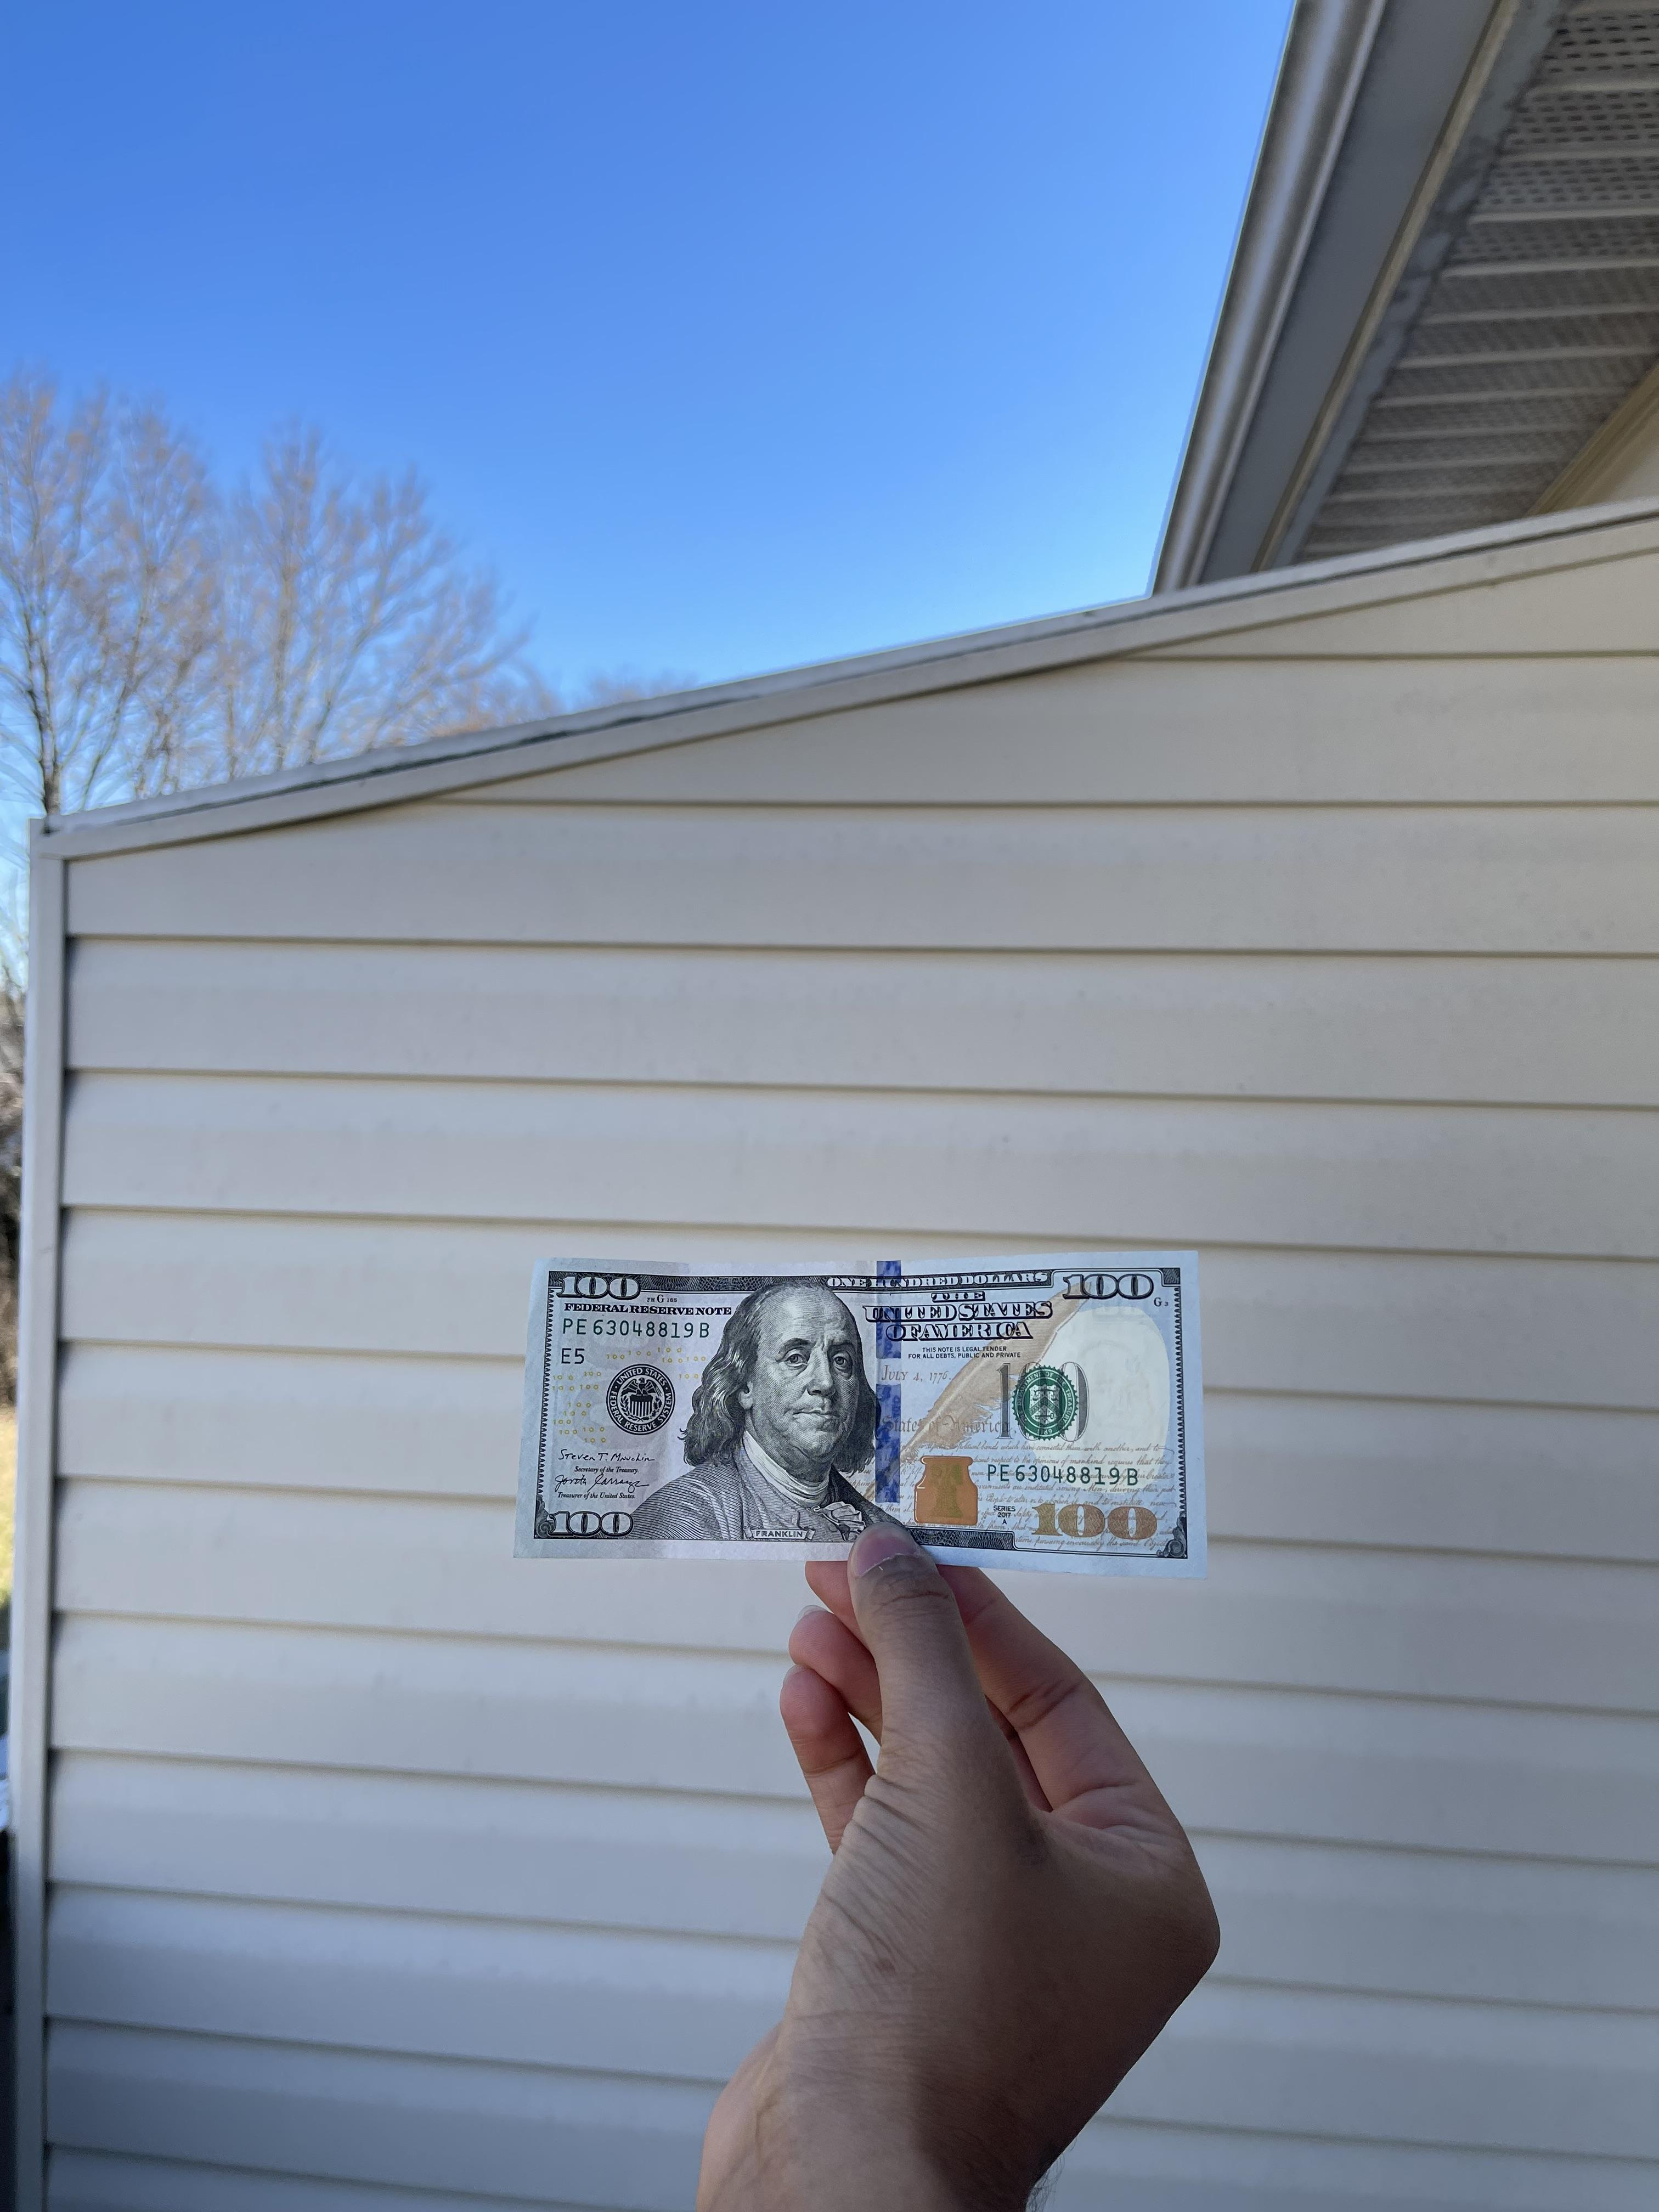HundredBill: (511, 1247, 1209, 1583)
